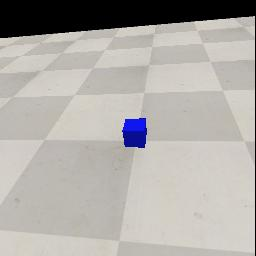box: (122, 118, 147, 148)
